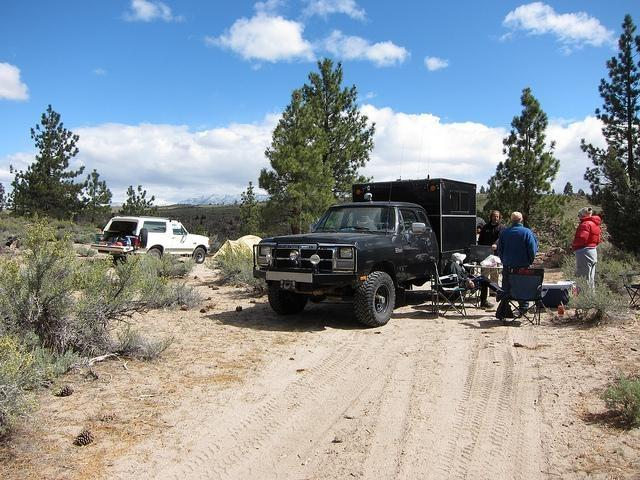car: (90, 216, 210, 264)
truck: (252, 182, 478, 328), (88, 217, 210, 265)
